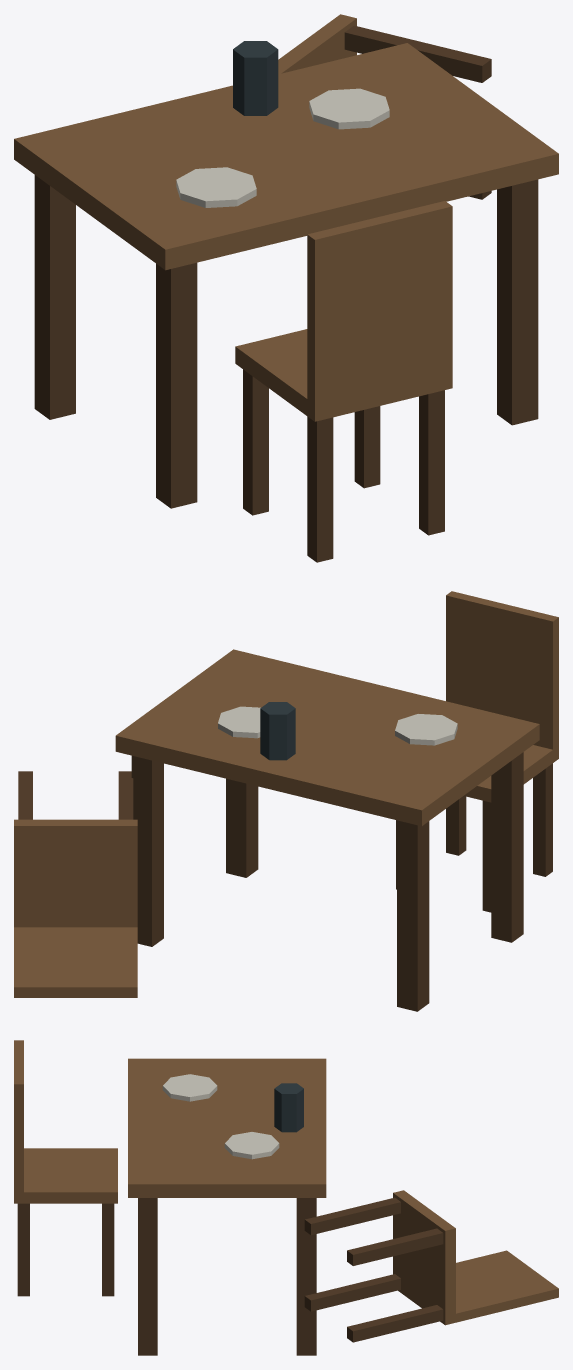
Rendered from ruins_house_table.glb.
3 views of the same model, one above another, from view 1: azimuth 30°, elevation 25°; view 2: azimuth 150°, elevation 25°; view 3: azimuth 270°, elevation 25° (orthographic). The views are drawn at different scales.
Parts seen in each view (by area): view 1: ruins_house_table_mesh; view 2: ruins_house_table_mesh; view 3: ruins_house_table_mesh.
Boxes of the visible parts, x1,y1,x2,y2 form: ruins_house_table_mesh: (14, 14, 558, 562); ruins_house_table_mesh: (14, 591, 558, 1011); ruins_house_table_mesh: (14, 1040, 558, 1355).
Size of the model in its own units: 1.52 by 0.95 by 2.2.
